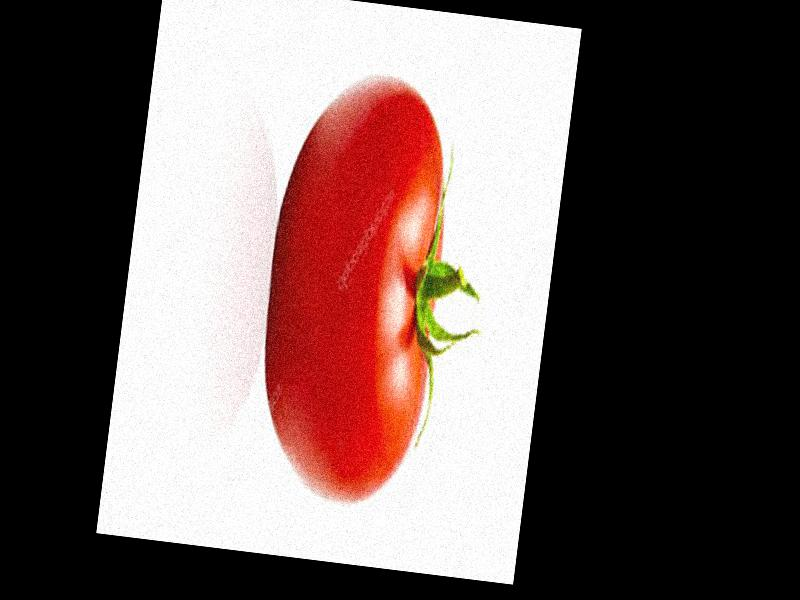Tomato: (245, 64, 462, 512)
